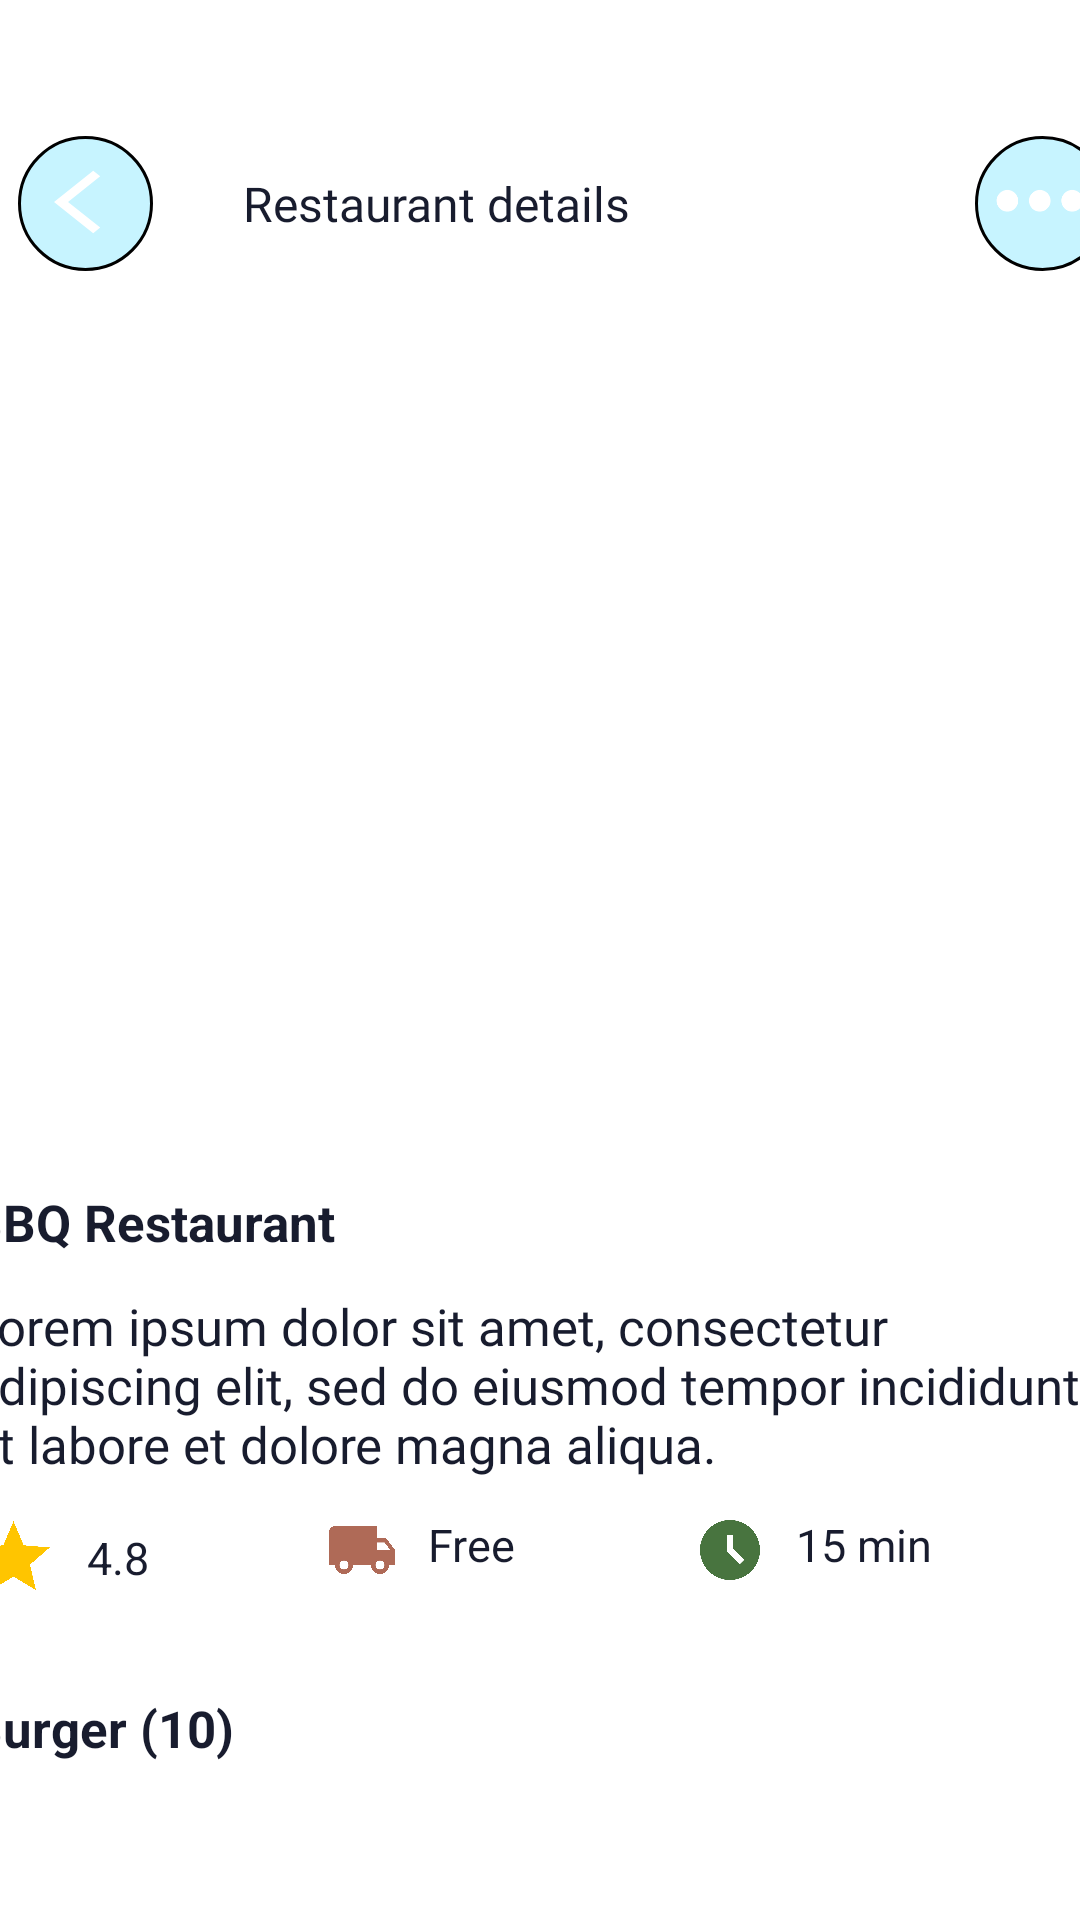

Screen size 1080px x 1920px. Icon name, then its box in pixels as (x1, y1, x2, y2):
access time: (700, 1520, 760, 1580)
arrow back: (18, 136, 153, 271)
local shipping: (329, 1526, 395, 1574)
